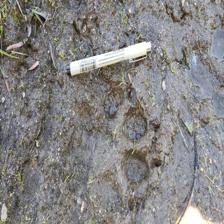squirrel: (116, 165, 149, 199), (126, 99, 156, 128), (50, 29, 75, 53), (97, 129, 117, 156)
